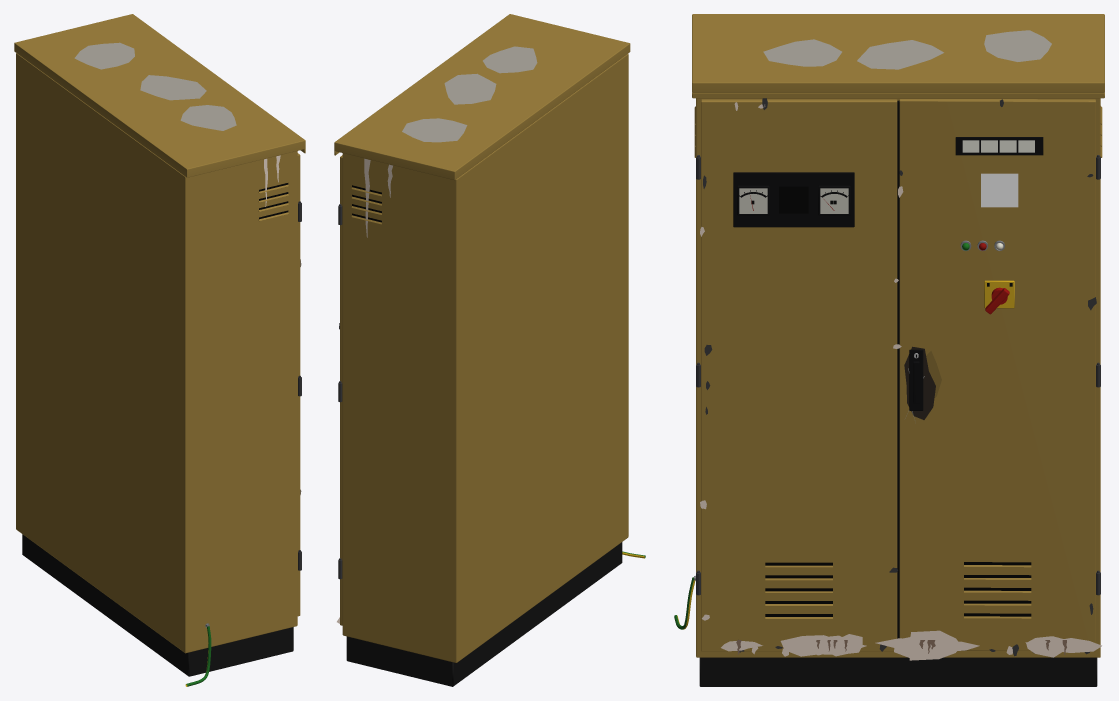
The model's file is switch_cabinet@1.glb.
The picture shows the model from 3 angles, left to right: view 1: azimuth 30°, elevation 25°; view 2: azimuth 150°, elevation 25°; view 3: azimuth 270°, elevation 25°; orthographic projection. The views are drawn at different scales.
Parts seen in each view (by area): view 1: teil.001, teil, teil.024; view 2: teil.001, teil, teil.024; view 3: teil.001, teil, teil.005, teil.024, teil.020, teil.002, teil.004, teil.007, teil.003, teil.011, teil.010, teil.022.
Boxes of the visible parts, box(x1,y1,x2,y2) form: teil.001: box(14, 14, 305, 653); teil: box(22, 534, 293, 676); teil.024: box(74, 42, 236, 130); teil.001: box(334, 14, 630, 662); teil: box(346, 542, 622, 686); teil.024: box(402, 46, 537, 142); teil.001: box(692, 14, 1104, 657); teil: box(699, 657, 1097, 686); teil.005: box(733, 137, 1043, 410); teil.024: box(763, 30, 1051, 69); teil.020: box(700, 102, 1101, 660); teil.002: box(765, 186, 1031, 616); teil.004: box(897, 100, 899, 638); teil.007: box(739, 188, 848, 213); teil.003: box(696, 98, 1100, 656); teil.011: box(981, 173, 1018, 207); teil.010: box(962, 140, 1034, 152); teil.022: box(904, 346, 935, 419).
Size of the model in its own units: 0.5527 by 2 by 1.28.
